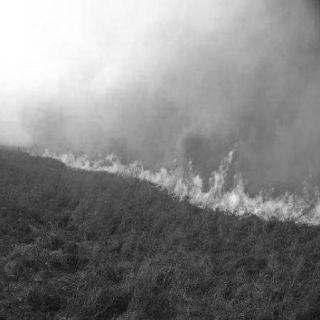Smoke: (5, 1, 319, 143)
